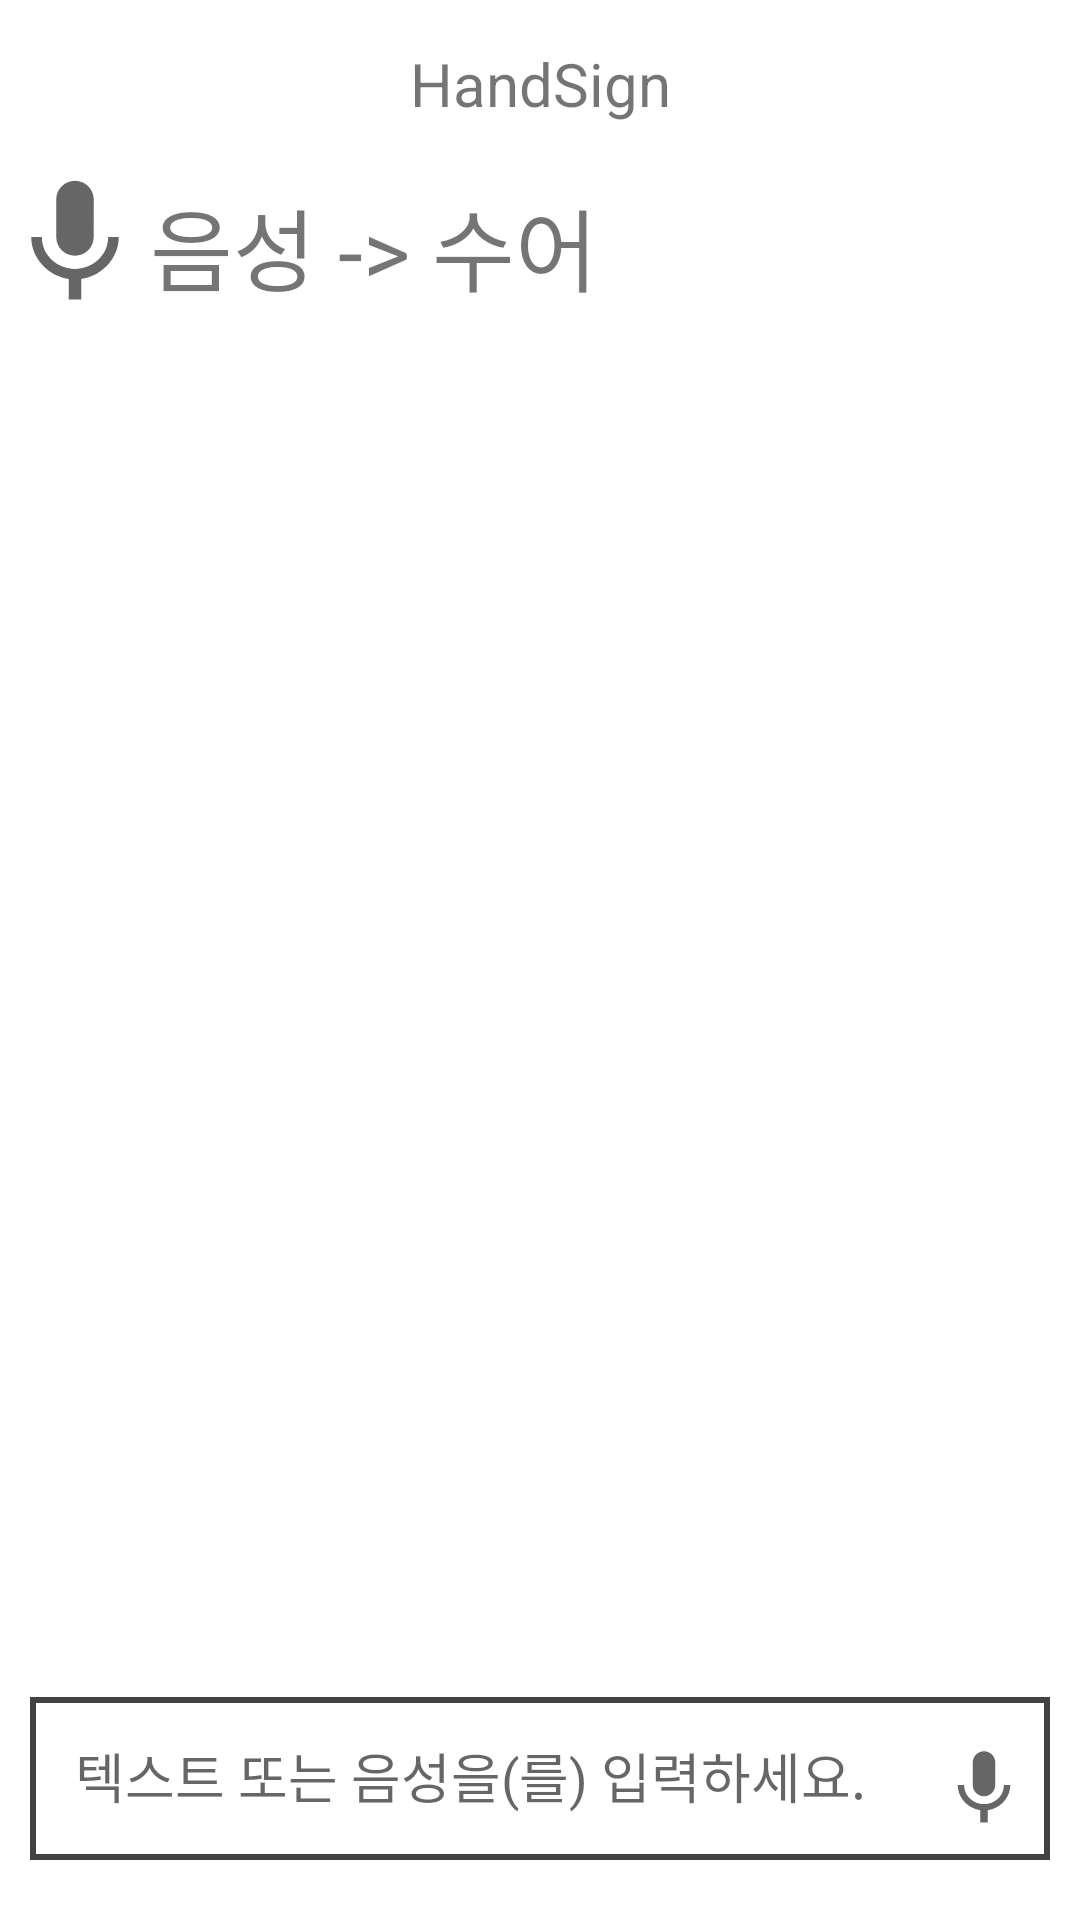

Named icons in this screenshot (1080px x 1920px) and their centers, [x,y]:
keyboard voice: [75,240], [984,1787]
